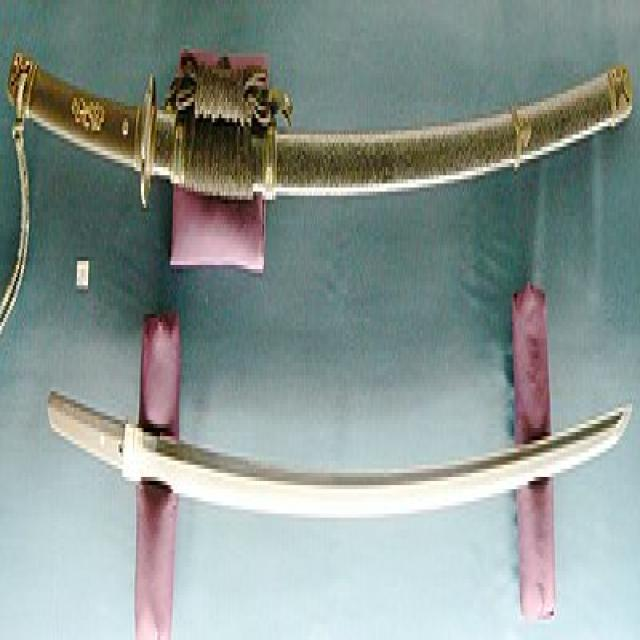long sword: (9, 28, 634, 218), (38, 384, 632, 532)
